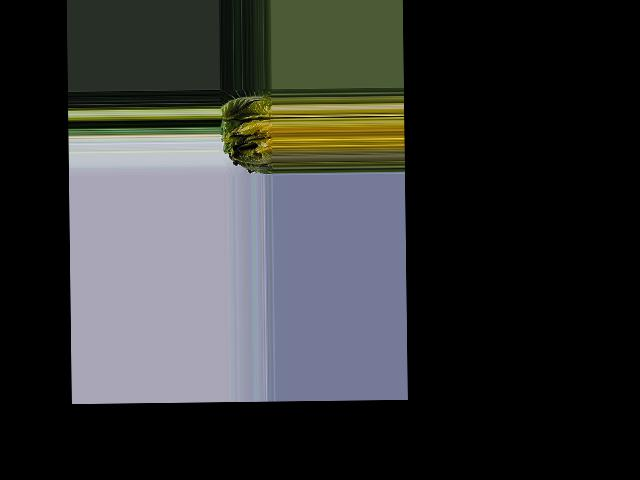lettuce: (222, 89, 273, 171)
